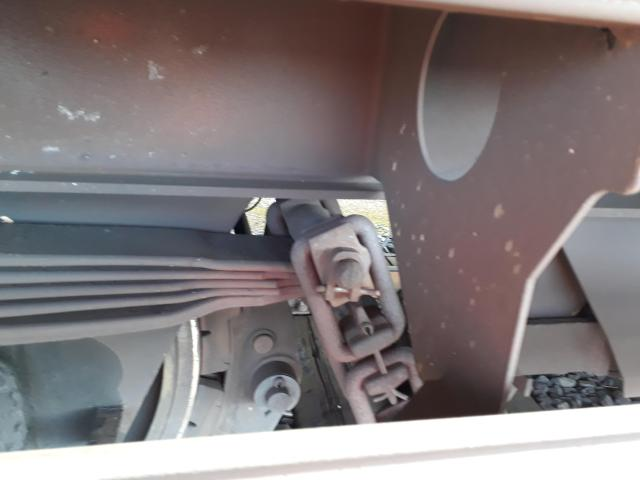blattfederww: (1, 230, 287, 340)
